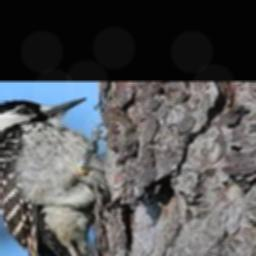Woodpecker: (0, 97, 140, 256)
